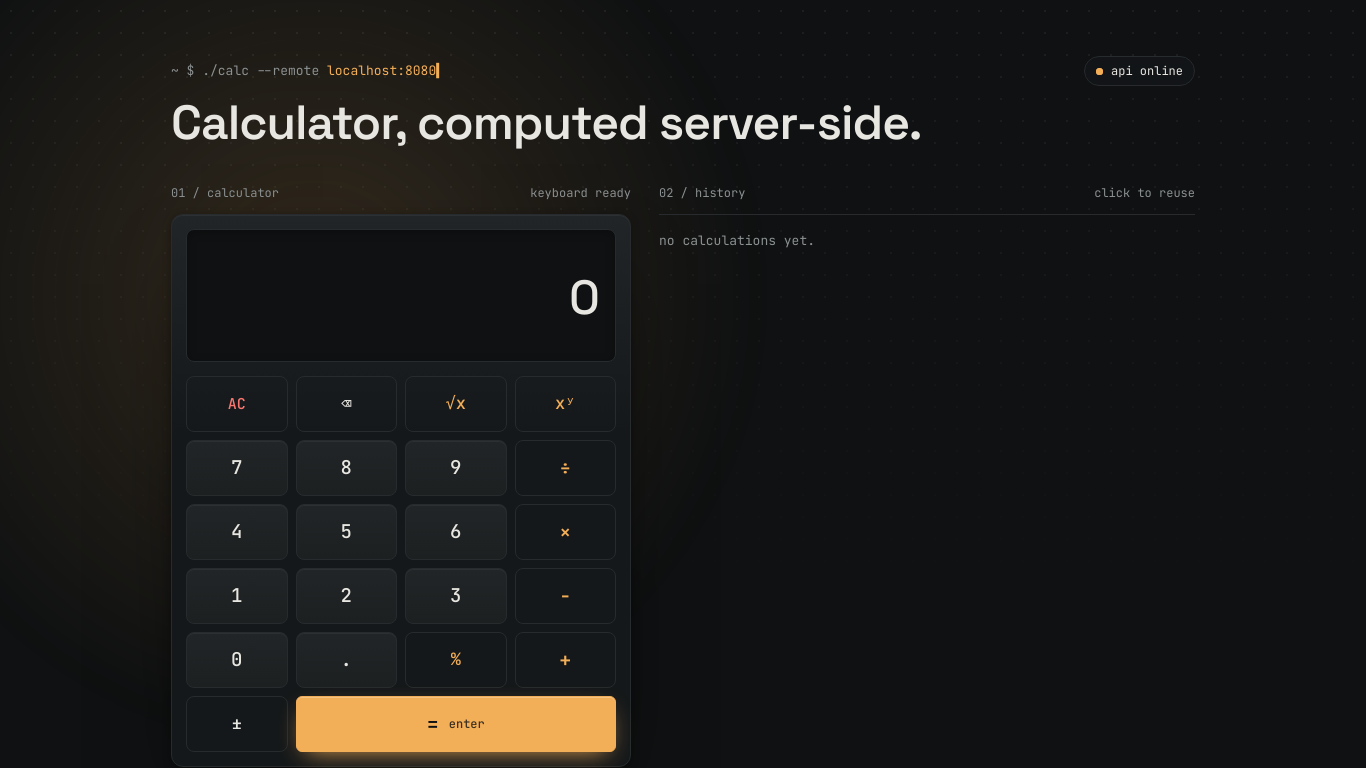
it: App › shows the error returned by the API
What coordinates should you click on to do the following:
click the button "5"
I would click on:
 (346, 532)
Its box is [296,504,397,560].
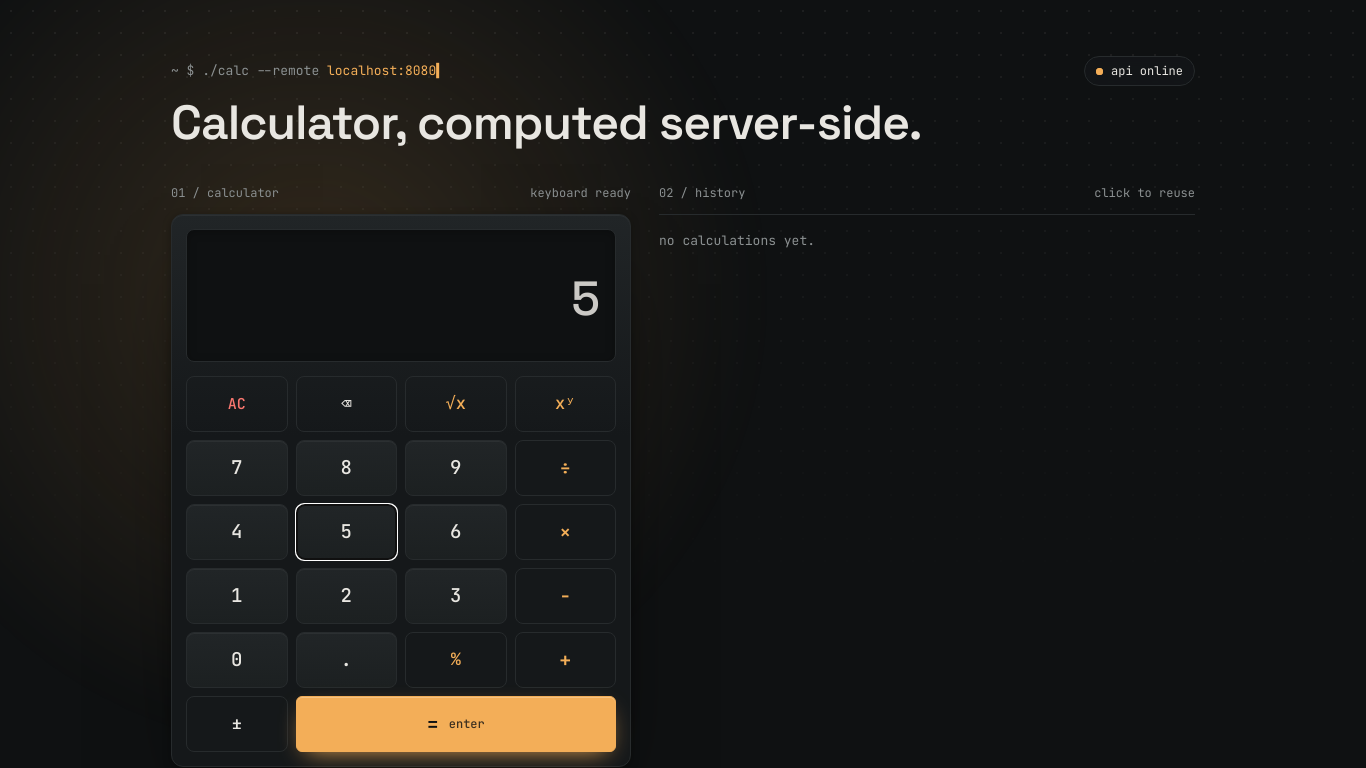
What coordinates should you click on to do the following:
click the button named "divide"
I would click on:
 (565, 468)
Its box is [514,440,616,496].
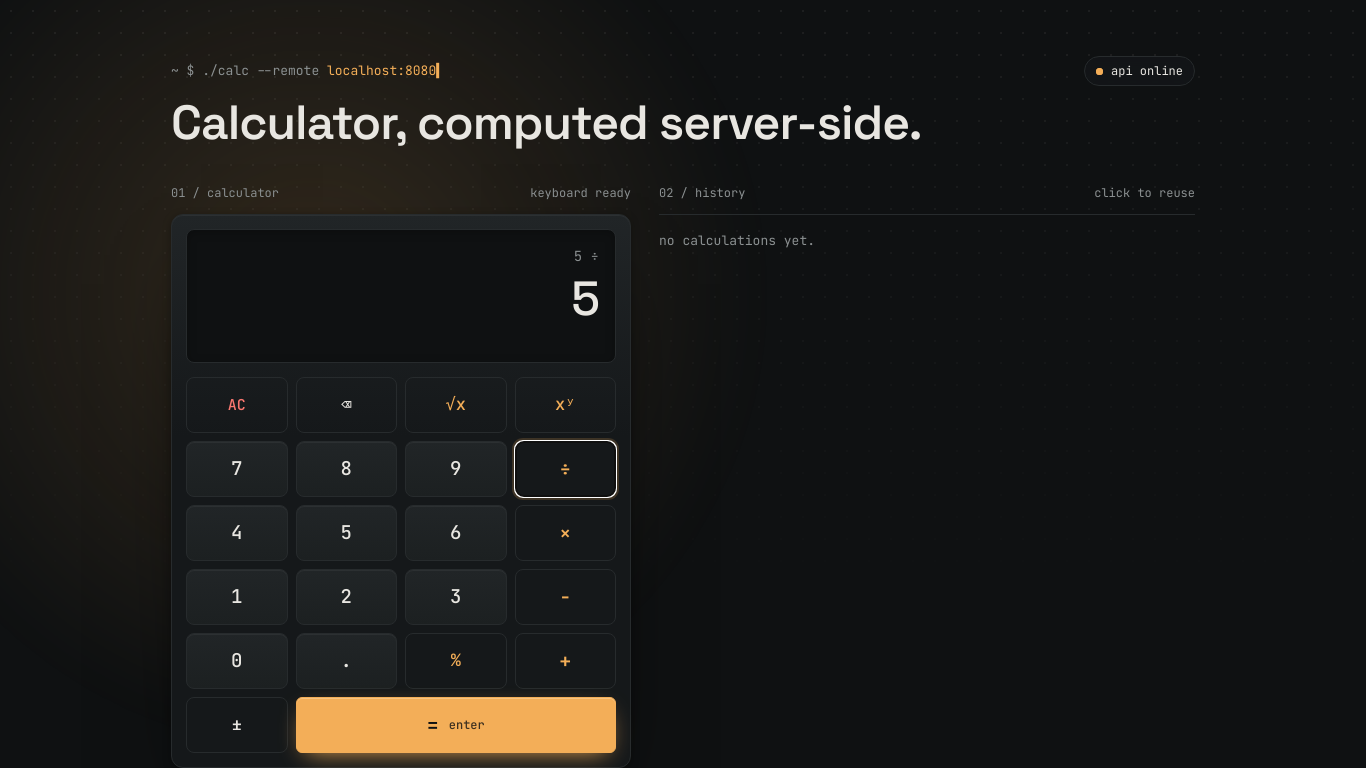
What coordinates should you click on to do the following:
click the button "0"
I would click on:
 (237, 661)
Its box is [186,633,288,689].
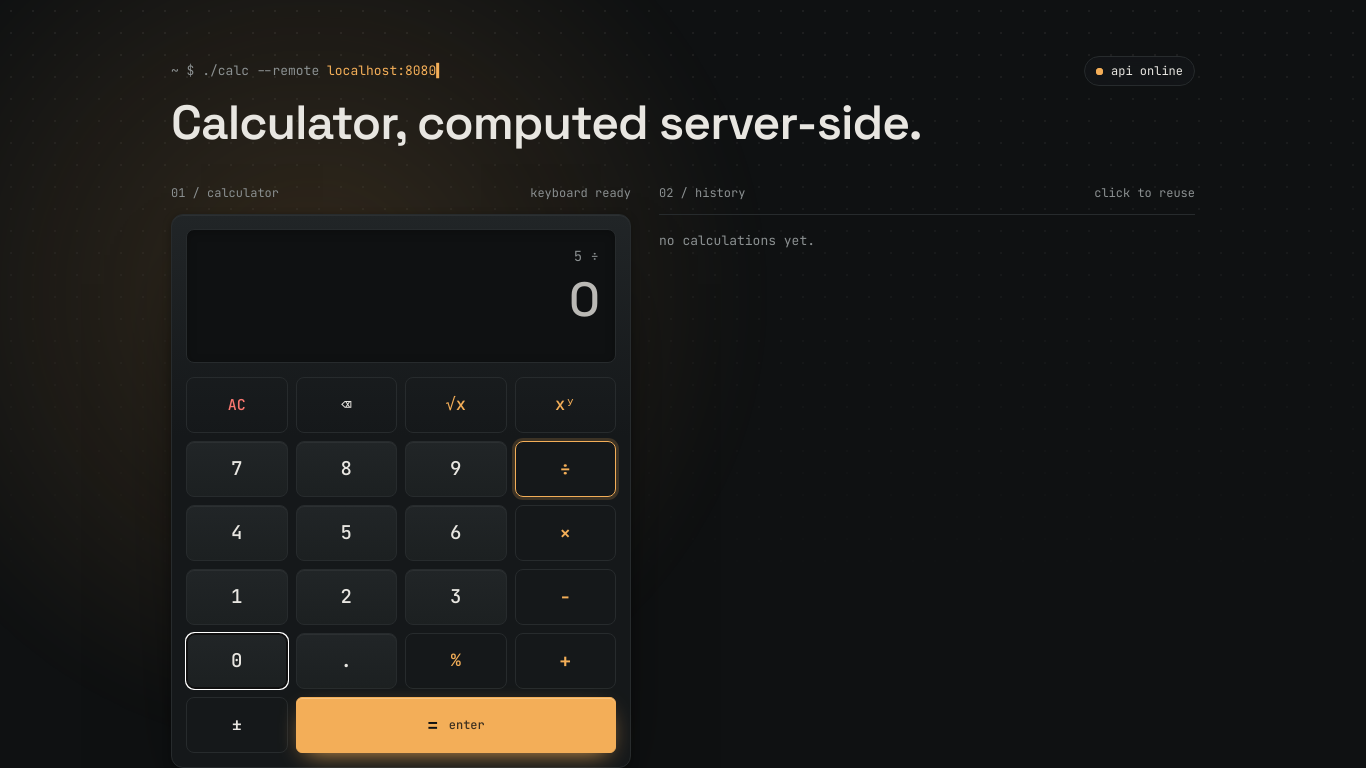
What coordinates should you click on to do the following:
click the button with aria-label "equals"
I would click on:
 (456, 725)
Its box is [296,697,616,753].
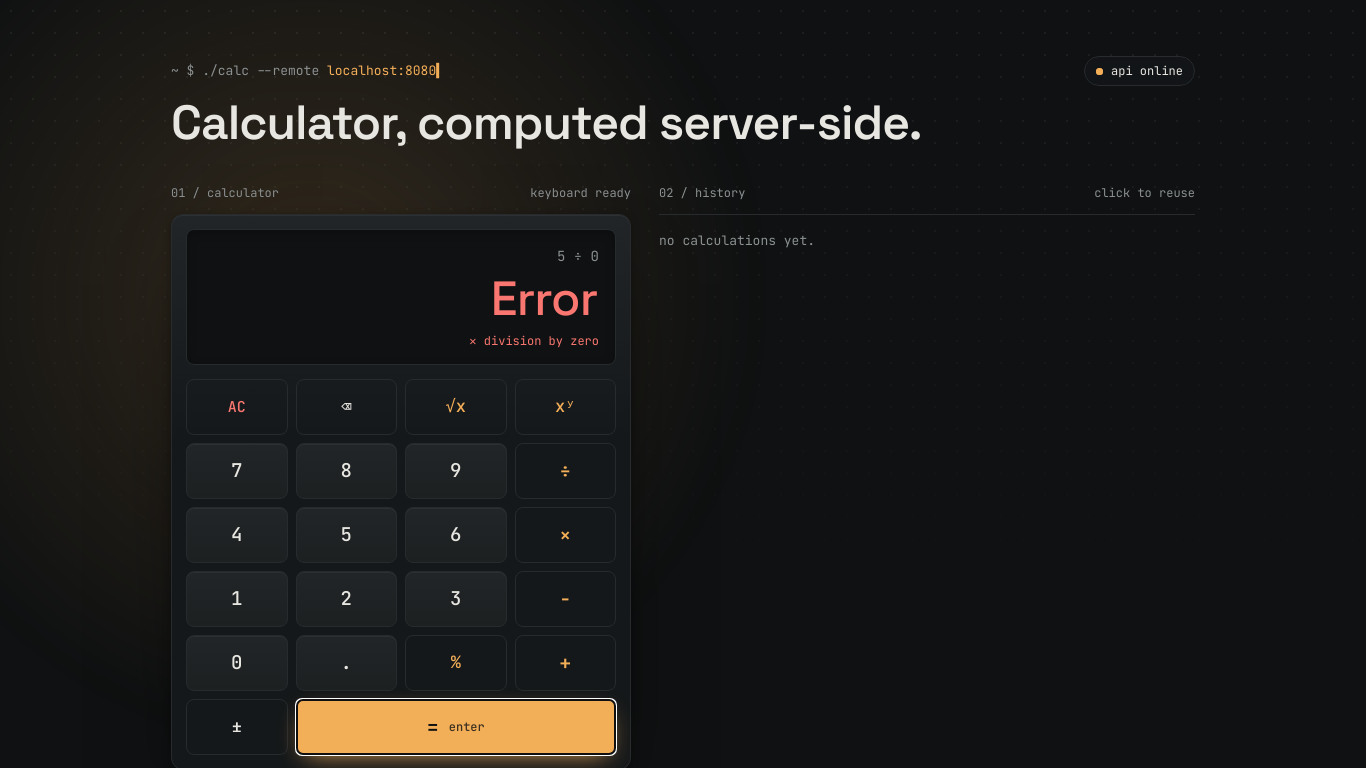
expect the text "no calculations yet." is shown: met, box [659,214,1195,267]
expect the text named "display value" reads "Error": met, box [488,268,594,329]
expect the text "✕ division by zero" is shown: met, box [469,332,599,350]
